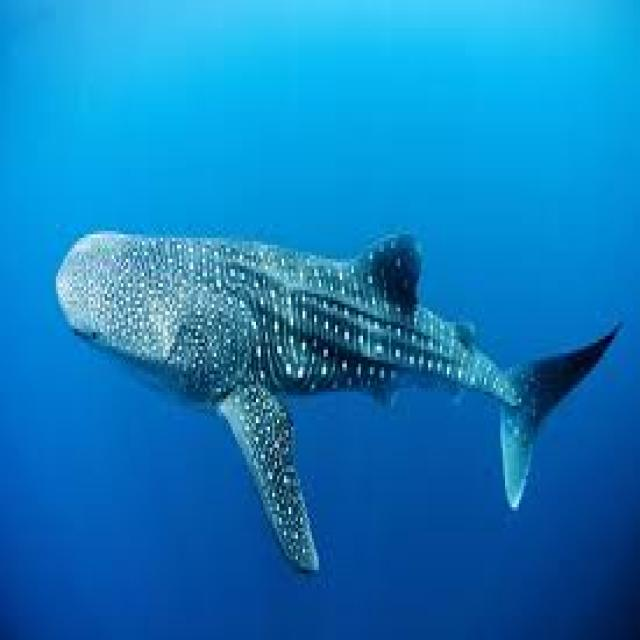Whale Shark -Endangered-: (56, 232, 624, 571)
